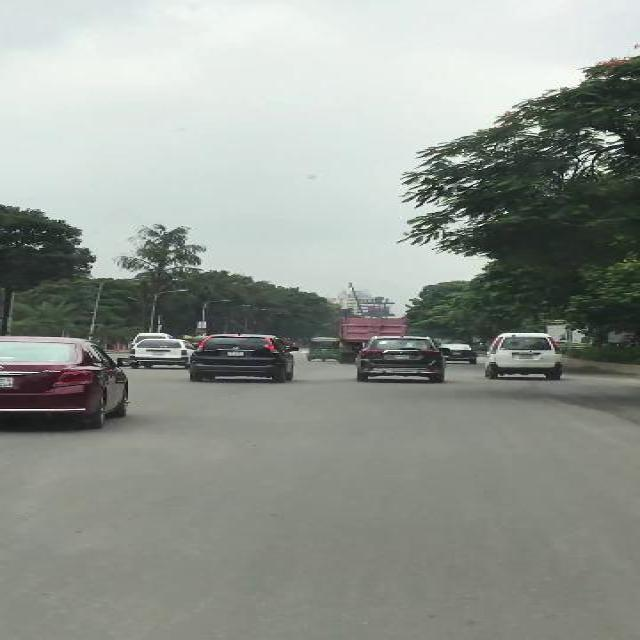car: (0, 331, 142, 430), (186, 331, 298, 382), (350, 335, 448, 383), (126, 336, 192, 369), (444, 341, 476, 364)
motorcycle: (304, 336, 340, 361)
truck: (478, 331, 564, 378), (336, 316, 407, 338)
